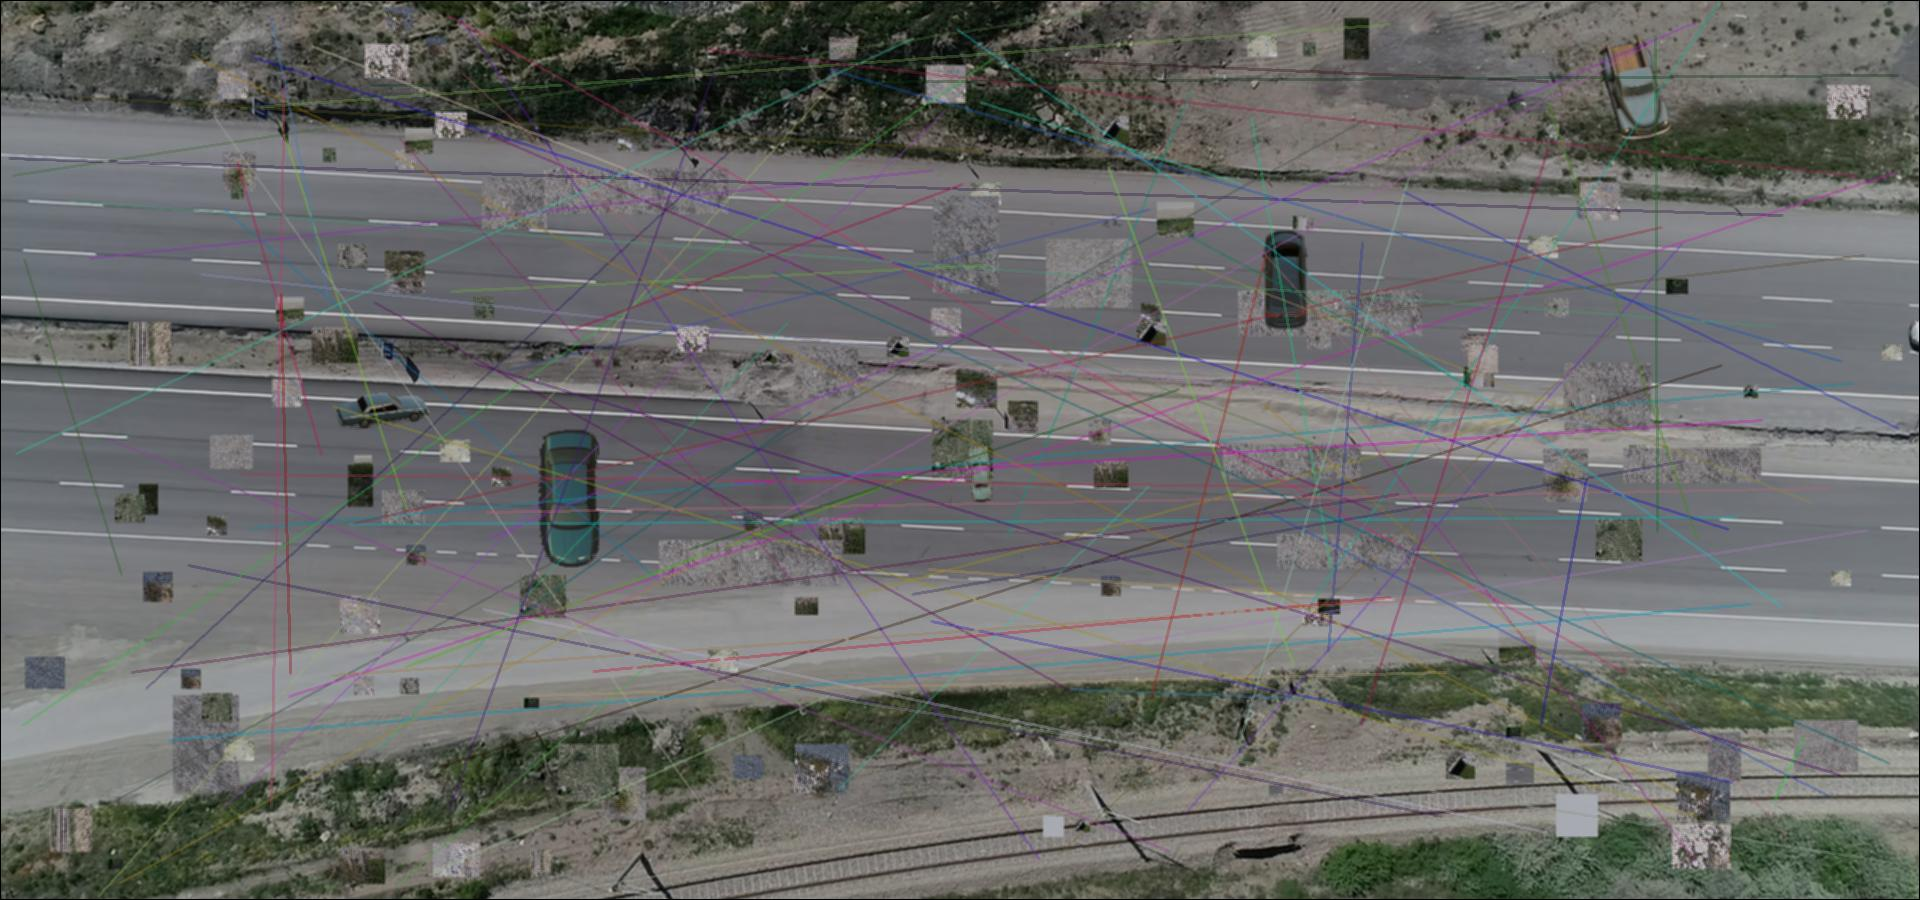arac: (538, 430, 599, 567), (1596, 36, 1671, 141), (1259, 231, 1311, 331), (334, 392, 432, 429), (969, 444, 996, 504)
